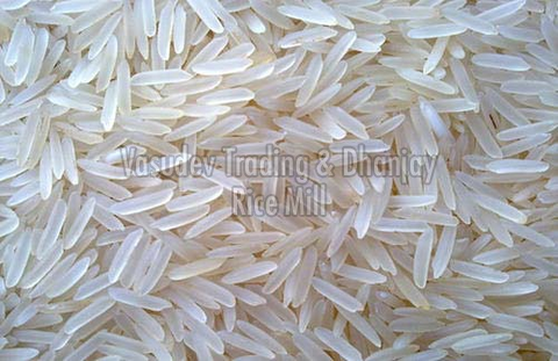rice: (49, 199, 301, 331), (42, 33, 343, 130)
